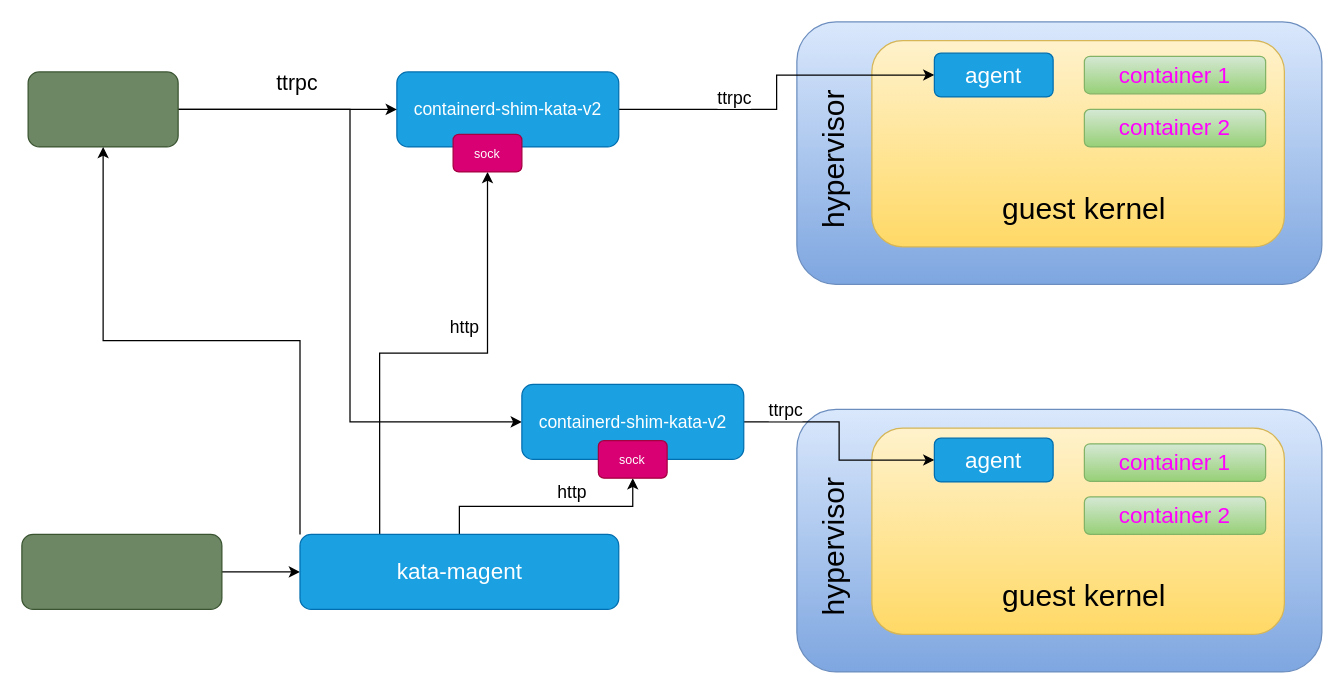
Some shapes in this 1344 by 694 pixel diagram are drawn without their labels. Each missing label, with the centre of its shape:
"containerd" belongs at point (102, 109).
"monitoring tools" belongs at point (121, 571).
